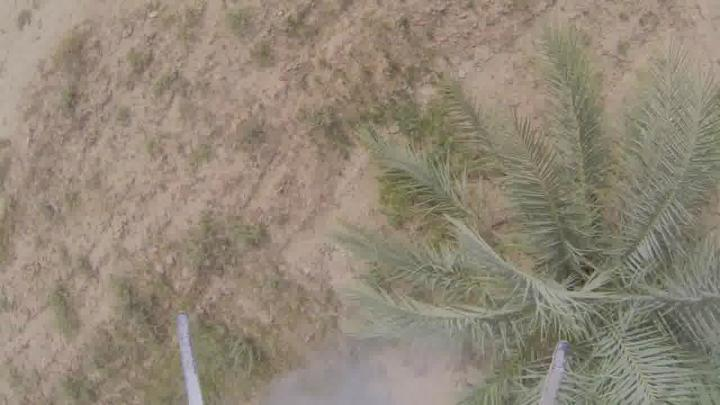Date-Palm-Crown: (440, 141, 720, 405)
